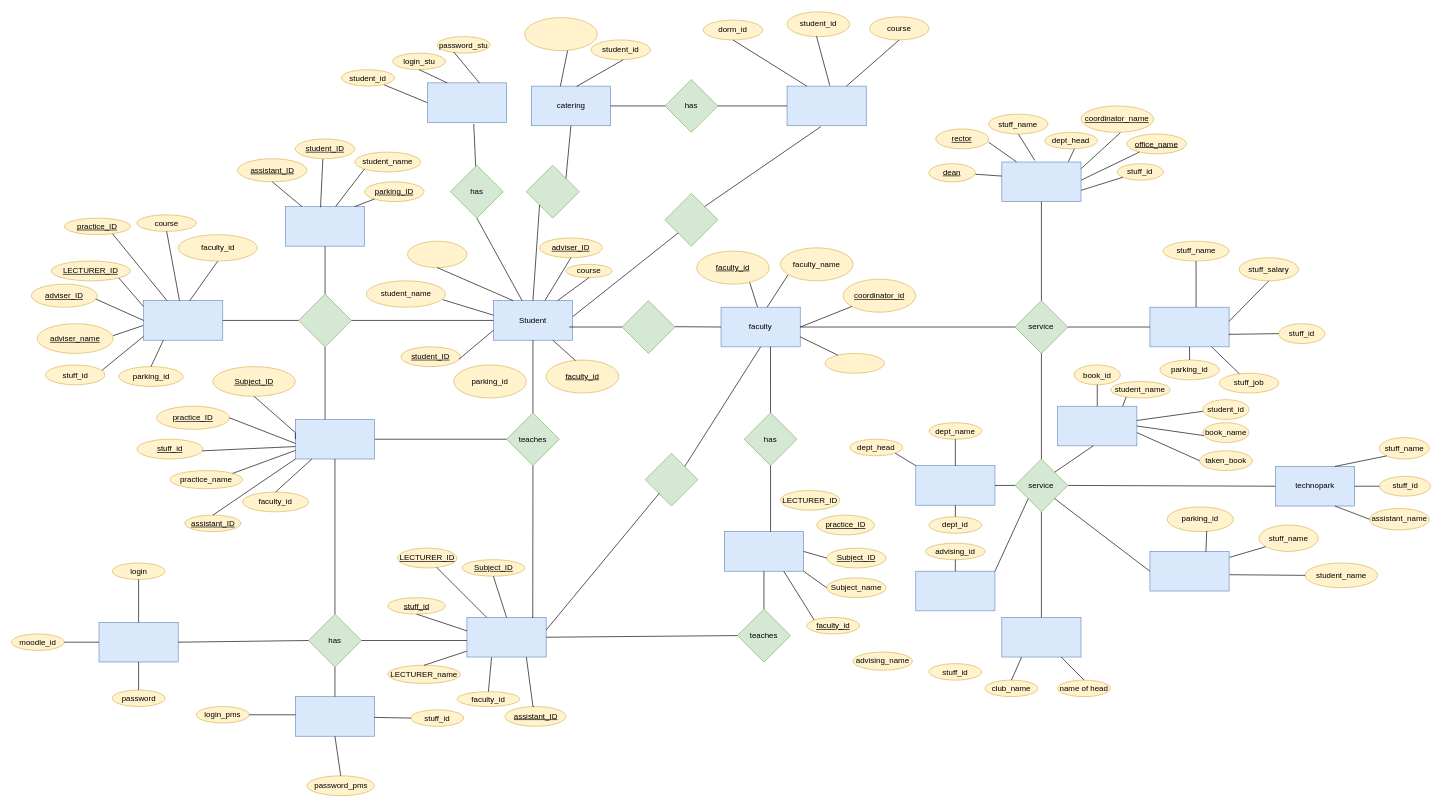
Image size: 1442x807. Some labels were removed from this diagram. Each missing label, with the centre of its shape:
"administartion" goes at (1041,181).
"adviser" goes at (183,320).
"advising desk" goes at (955,591).
"assistant" goes at (325,226).
"attends" goes at (648,326).
"city" goes at (437,254).
"dean_ID" goes at (854,363).
"department" goes at (955,485).
"description (dinner, breakfast)" goes at (560,34).
"dormitory" goes at (826,105).
"eat" goes at (552,191).
"helps" goes at (324,320).
"lecturer" goes at (506,637).
"library" goes at (1097,426).
"live" goes at (691,219).
"moodle" goes at (138,642).
"parking" goes at (1189,571).
"portal(pms)" goes at (335,716).
"portal(stu)" goes at (467,102).
"practice teacher" goes at (335,439).
"sdu_life" goes at (1041,637).
"stuff" goes at (1189,327).
"subject" goes at (764,551).
"takes" goes at (671,479).
